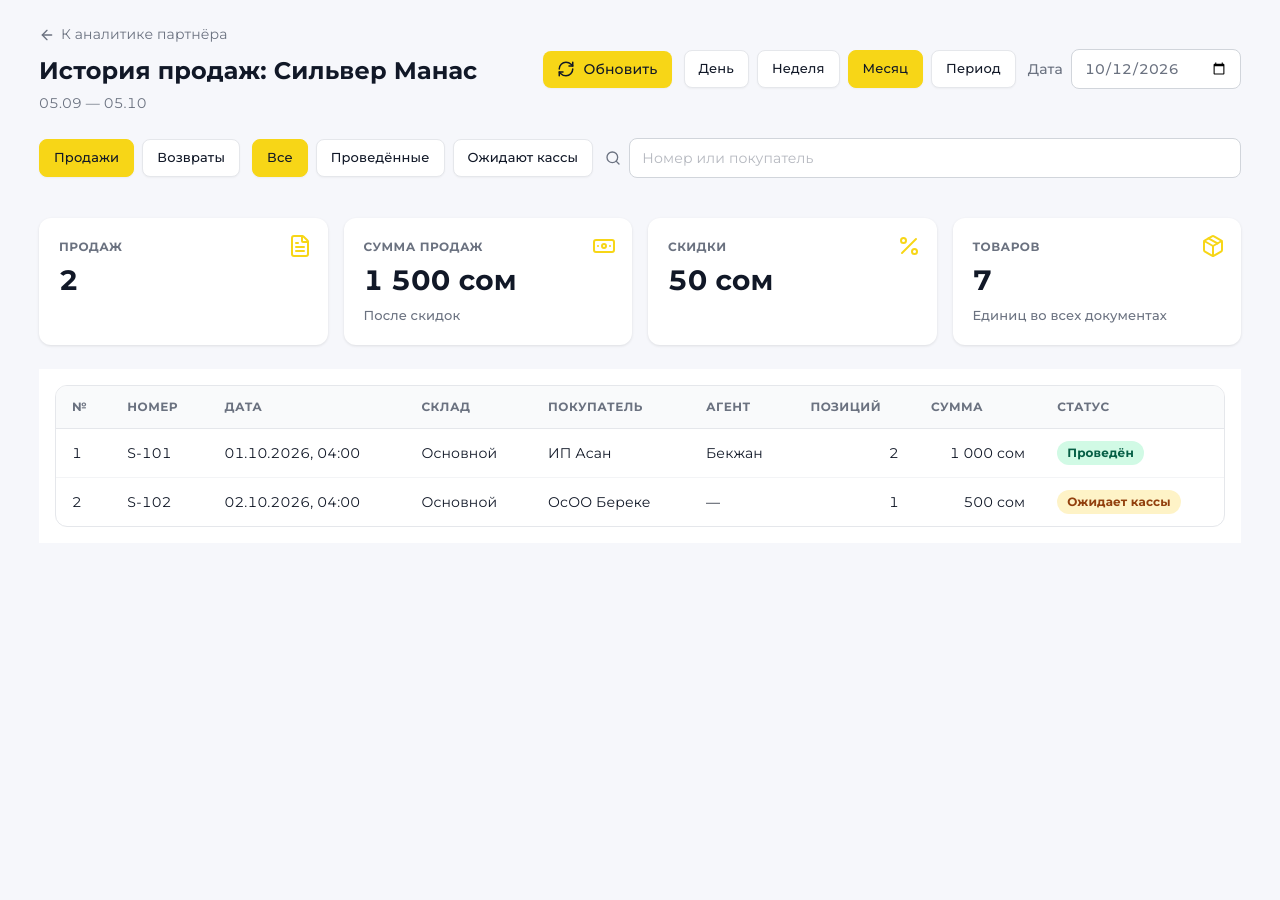
Test: PartnerSalesHistory › по клику открывает состав документа
Step 1. Click the button with aria-label "Документ S-101" → [640, 453], box 56,429 -> 1224,478
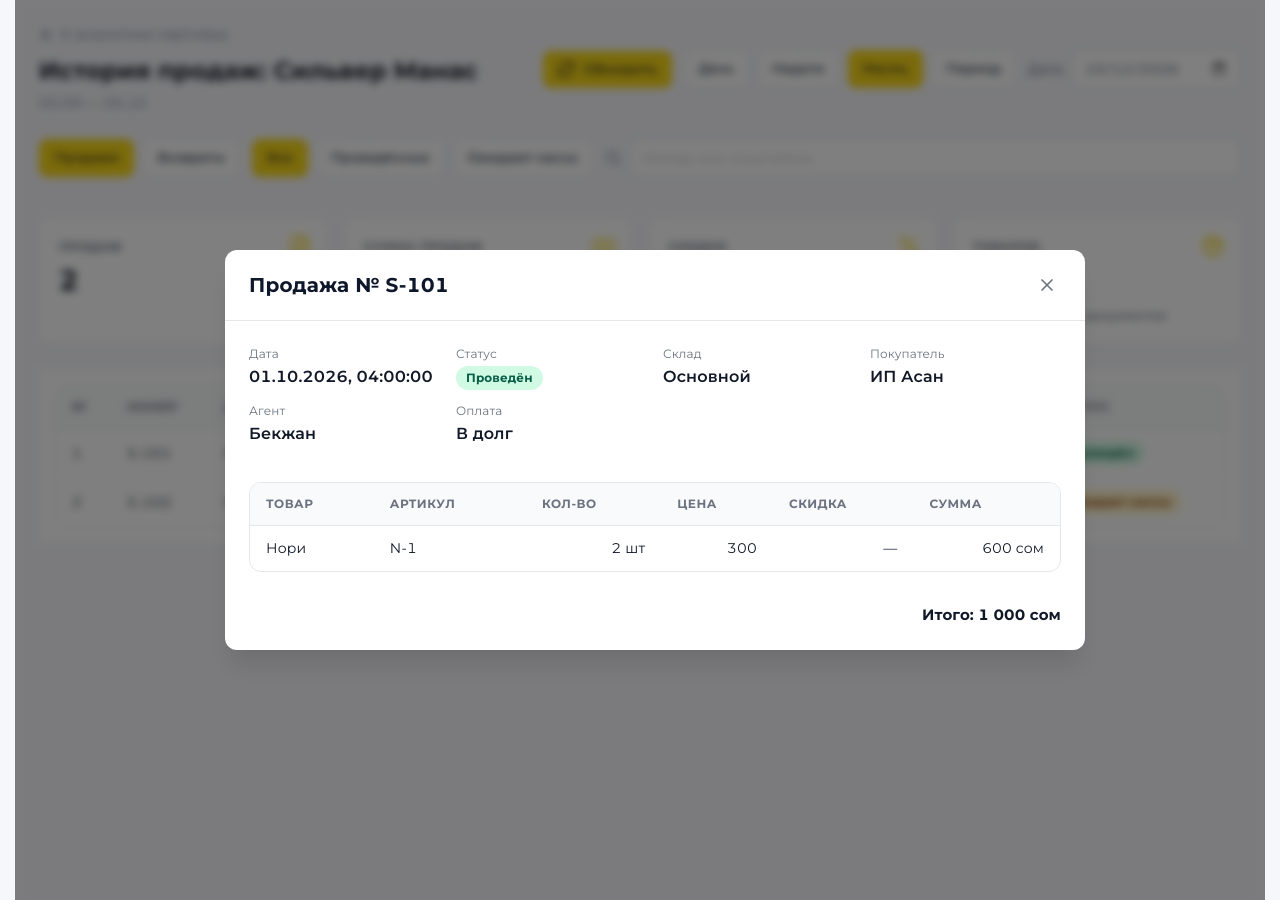
Now the text "Нори" is shown, box 250,525 -> 374,571
Now the text "600 сом" is shown, box 914,525 -> 1060,571
Now the text "В долг" is shown, box 456,424 -> 513,443
